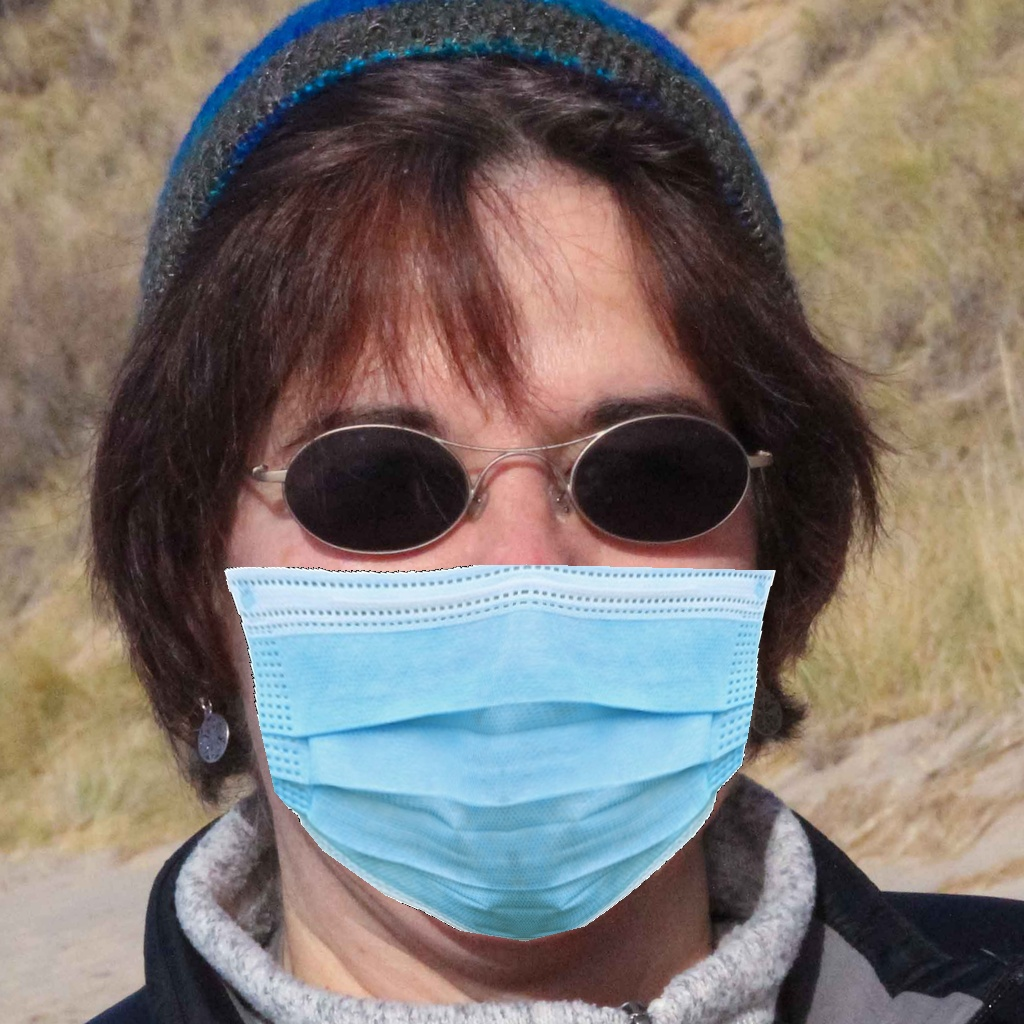Mask: (218, 379, 779, 950)
